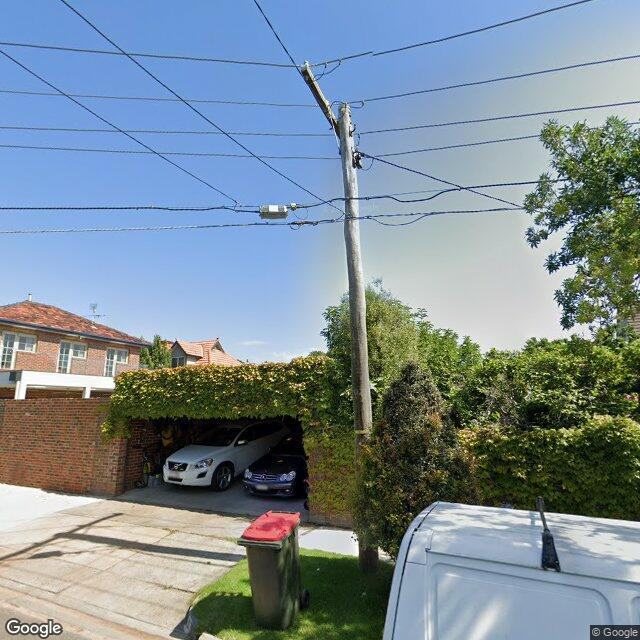crossarm: (303, 64, 340, 138)
timber-pole: (340, 102, 380, 568)
